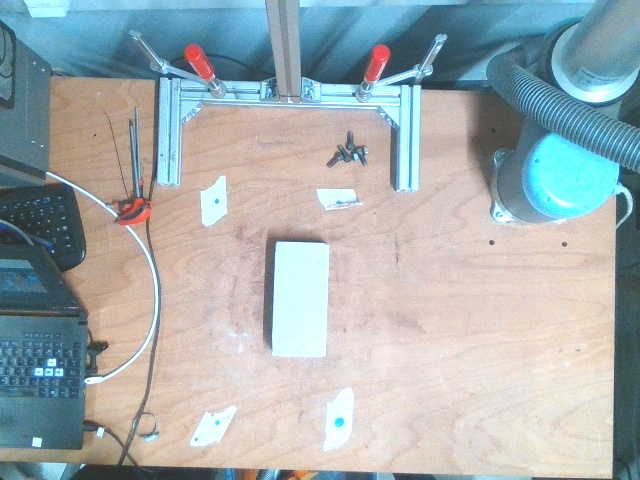brick: (271, 243, 327, 356)
